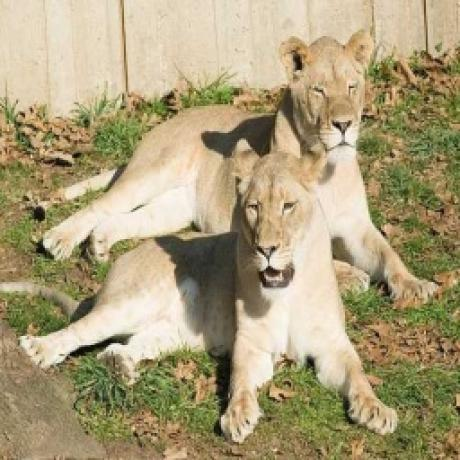Lion: (21, 139, 402, 444), (34, 28, 443, 306)
